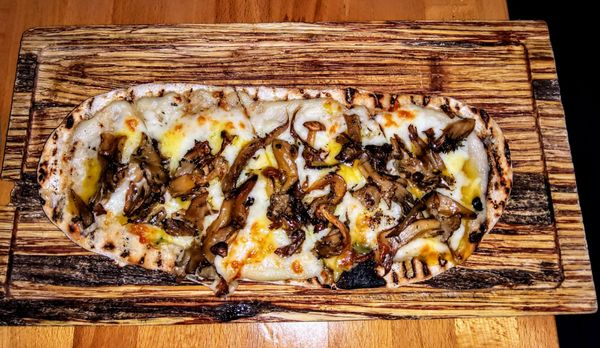curry: (19, 9, 586, 339)
sandwich: (23, 82, 513, 296)
